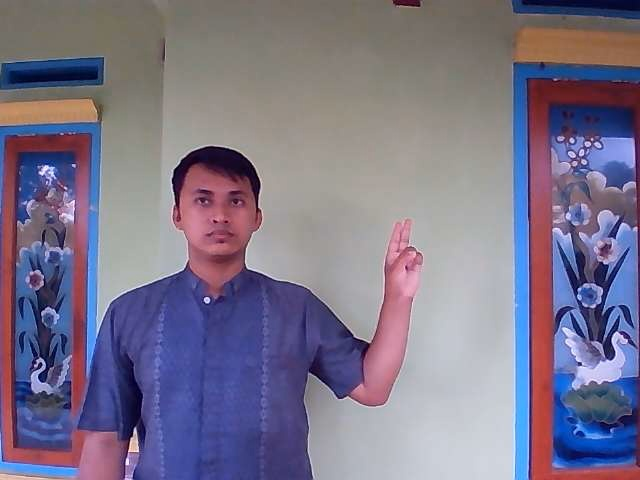U: (379, 215, 424, 306)
